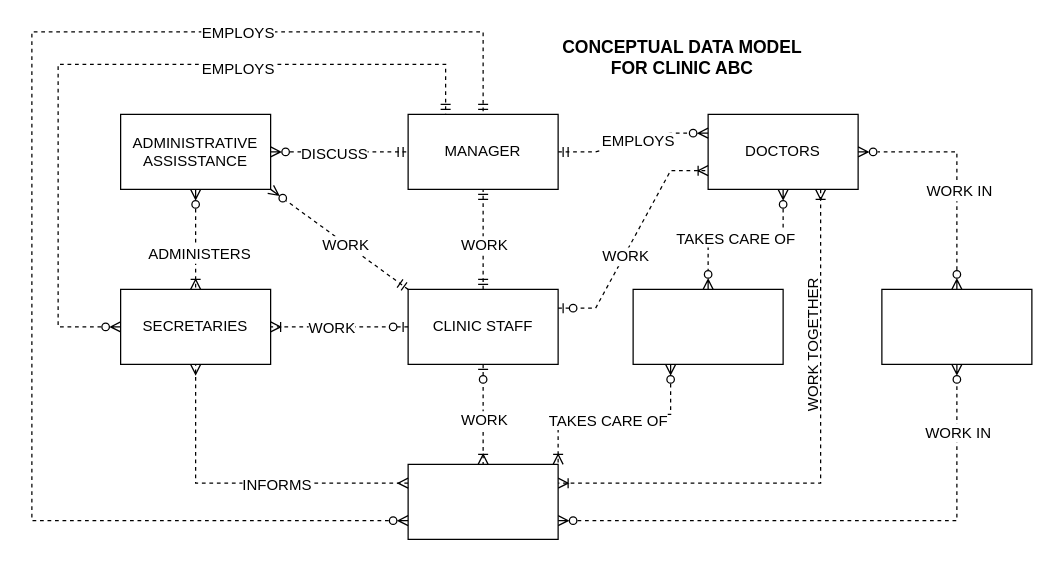
Image size: 1054x561. Some labels were removed from this diagram. The shapes that lost their labels are listed below. From the top down, each one's centre as x and y in pixels, then its label:
(x=707, y=326): PATIENTS
(x=956, y=326): LABORATORIES
(x=482, y=501): NURSES
